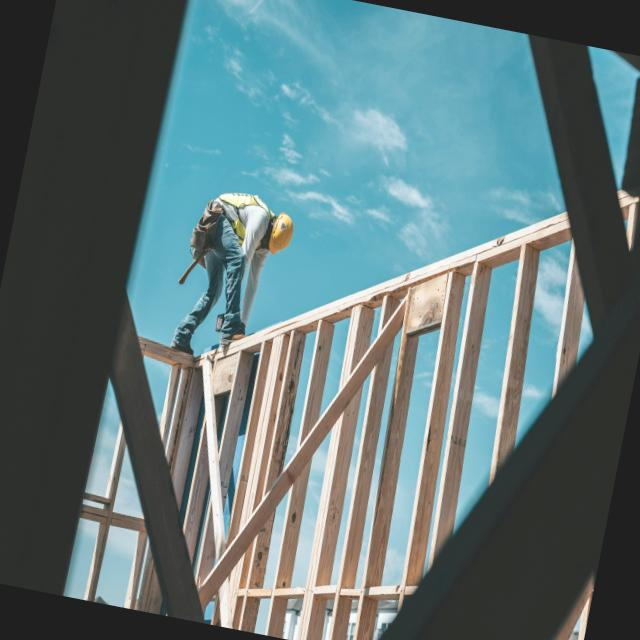helmet: (266, 204, 302, 262)
person: (168, 178, 300, 370)
vest: (205, 175, 278, 250)
